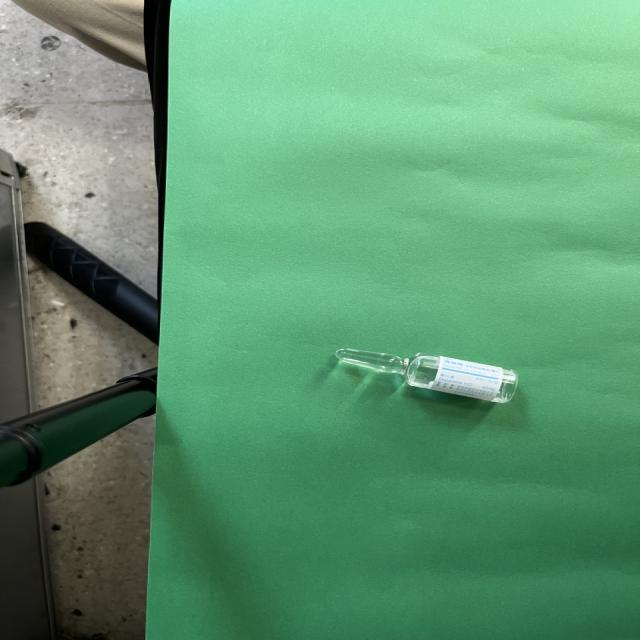Ampoules: (335, 348, 517, 403)
